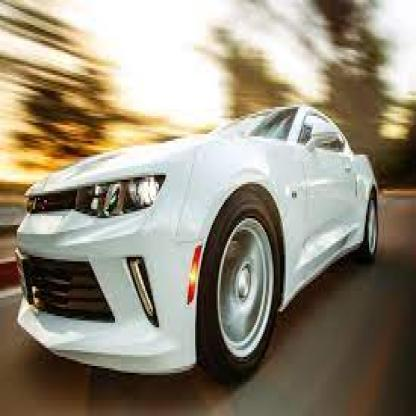car: (15, 92, 380, 369)
